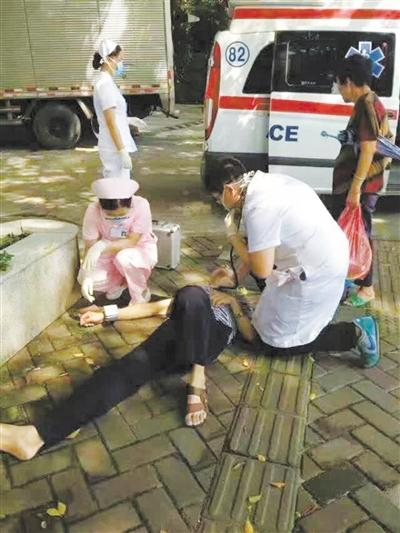bending: (207, 154, 375, 368), (62, 166, 166, 319)
down: (3, 248, 261, 465)
up: (325, 49, 390, 304), (86, 30, 139, 180)
